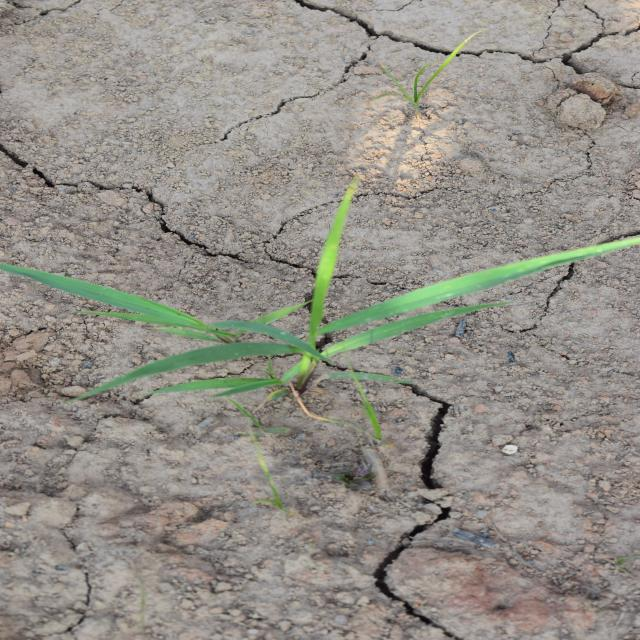green_foxtail: (248, 36, 417, 544)
